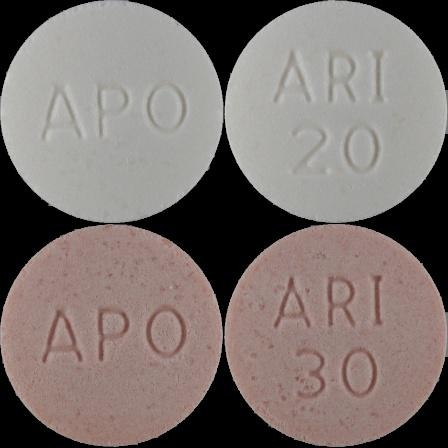48433-119: (0, 0, 224, 224)
